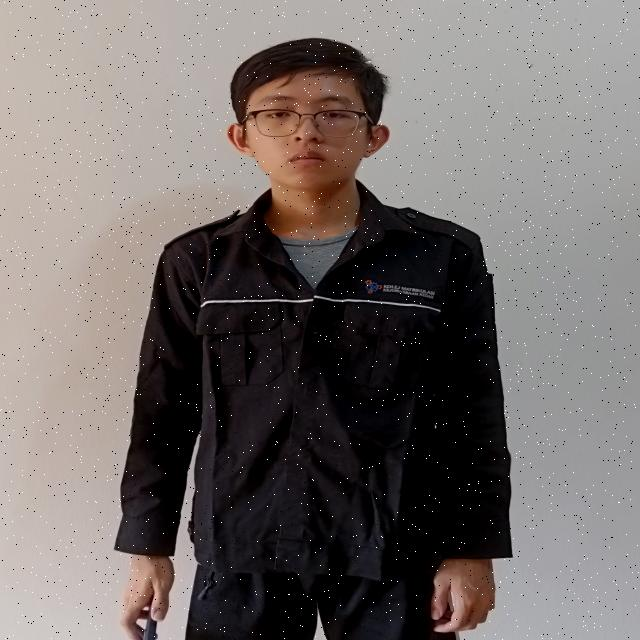person_with_labcoat: (116, 39, 511, 640)
